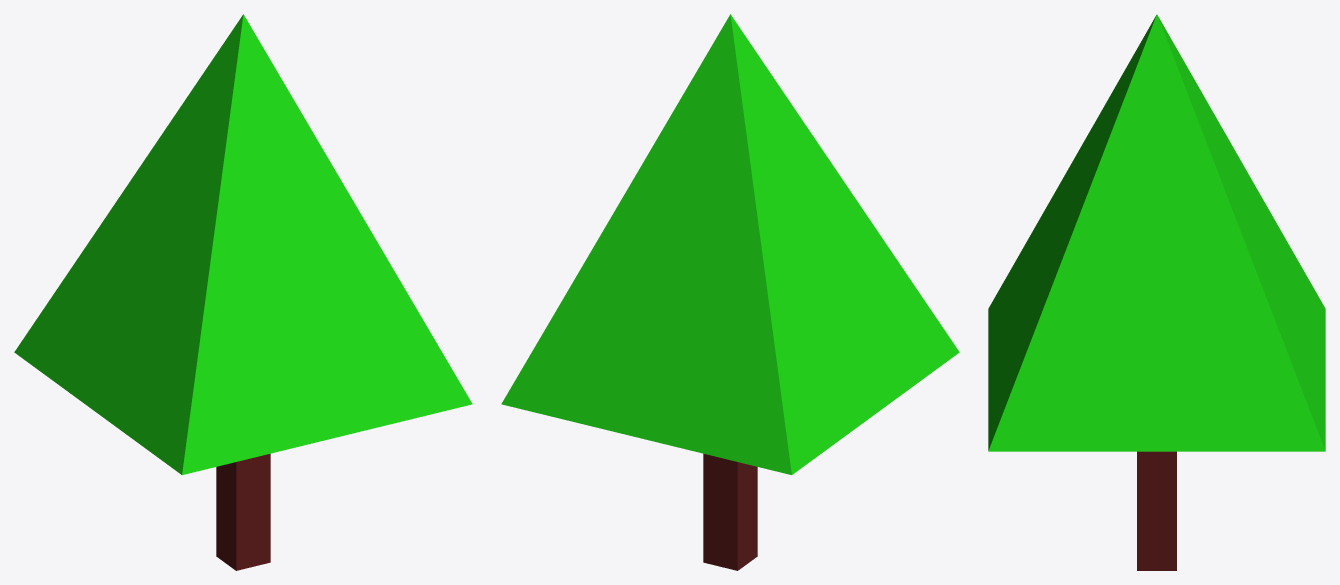
Rendered from Tree.fbx.
3 views of the same model, side by side, from view 1: azimuth 30°, elevation 25°; view 2: azimuth 150°, elevation 25°; view 3: azimuth 270°, elevation 25° (orthographic).
Parts seen in each view (by area): view 1: Tree; view 2: Tree; view 3: Tree.
Part boxes in pixels (x1,y1,x2,y2): Tree: (14,14,472,570); Tree: (501,14,959,570); Tree: (988,14,1325,570).
Bounding box in the file's own units: 210 × 376 × 210.
